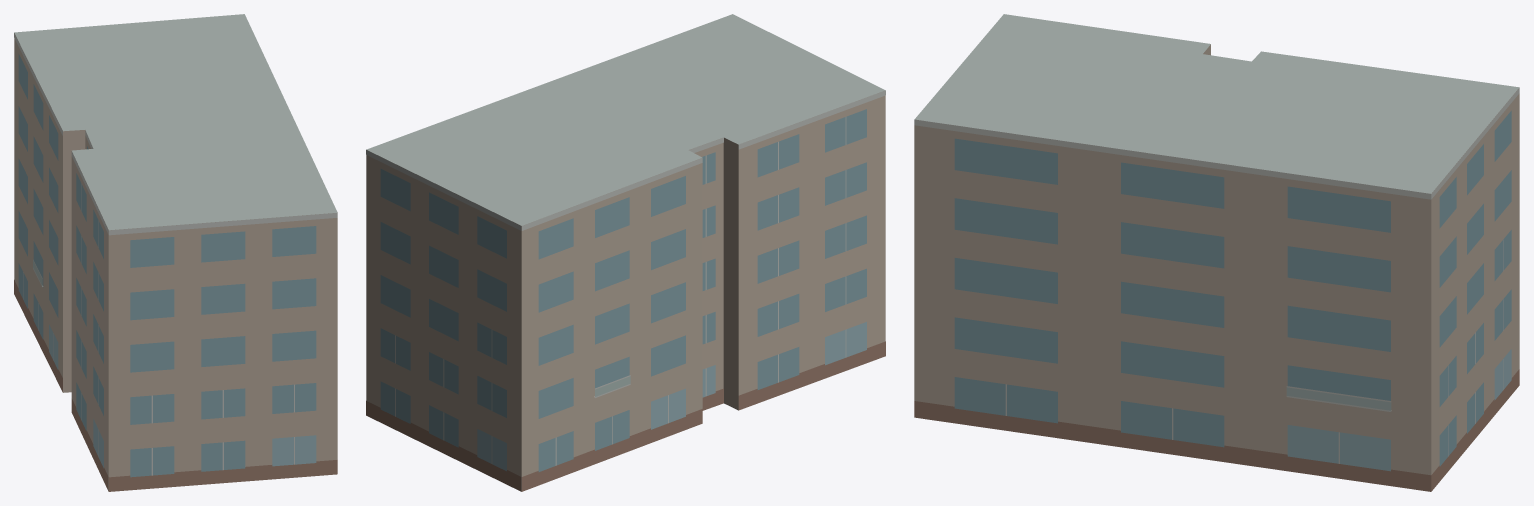
The model's file is survey-upis-32677687.glb.
The picture shows the model from 3 angles, left to right: view 1: azimuth 30°, elevation 25°; view 2: azimuth 150°, elevation 25°; view 3: azimuth 270°, elevation 25°; orthographic projection. The views are drawn at different scales.
Parts seen in each view (by area): view 1: survey-upis-32677687.tmp; view 2: survey-upis-32677687.tmp; view 3: survey-upis-32677687.tmp.
Part boxes in pixels (x1=…): survey-upis-32677687.tmp: x1=14, y1=14, x2=337, y2=491; survey-upis-32677687.tmp: x1=366, y1=14, x2=885, y2=491; survey-upis-32677687.tmp: x1=914, y1=14, x2=1519, y2=491.
Bounding box in the file's own units: 16.29 × 12.58 × 23.16.
